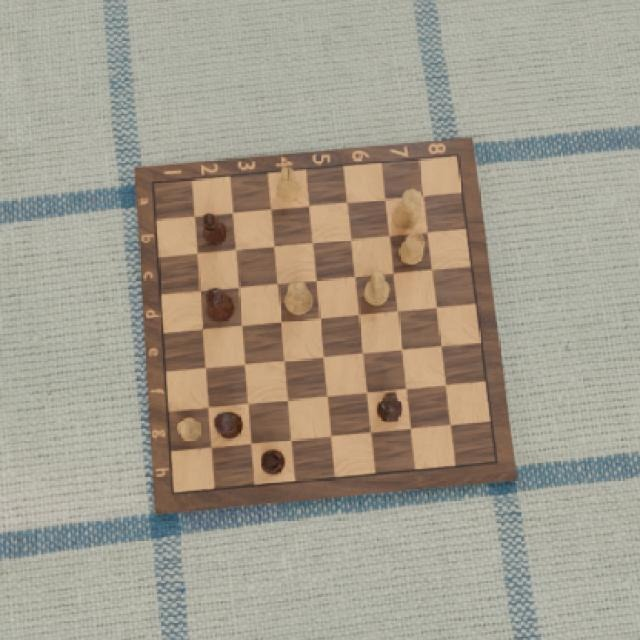black-king: (205, 287, 235, 323)
black-knight: (375, 388, 405, 424)
black-pawn: (200, 213, 227, 244)
black-queen: (212, 411, 243, 441)
black-rook: (261, 449, 287, 475)
white-bishop: (275, 162, 301, 209)
white-king: (282, 277, 317, 319), (391, 188, 423, 232)
white-knight: (364, 269, 390, 310)
white-pawn: (176, 417, 204, 443)
white-rook: (394, 232, 430, 268)
